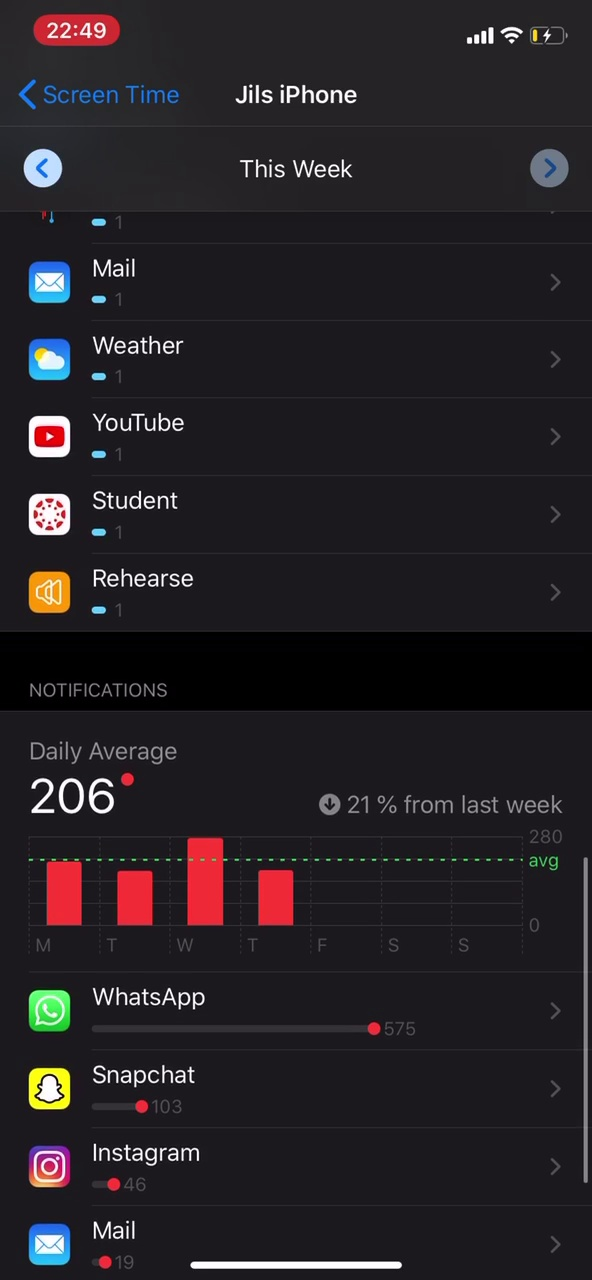not_app: (23, 977, 429, 1049), (17, 1130, 267, 1200), (26, 1060, 206, 1124)
not_over: (17, 669, 184, 828)
pick_app: (22, 555, 253, 630), (20, 480, 239, 549), (22, 324, 206, 399), (20, 238, 193, 317), (20, 405, 217, 469)
week: (227, 150, 362, 185)
